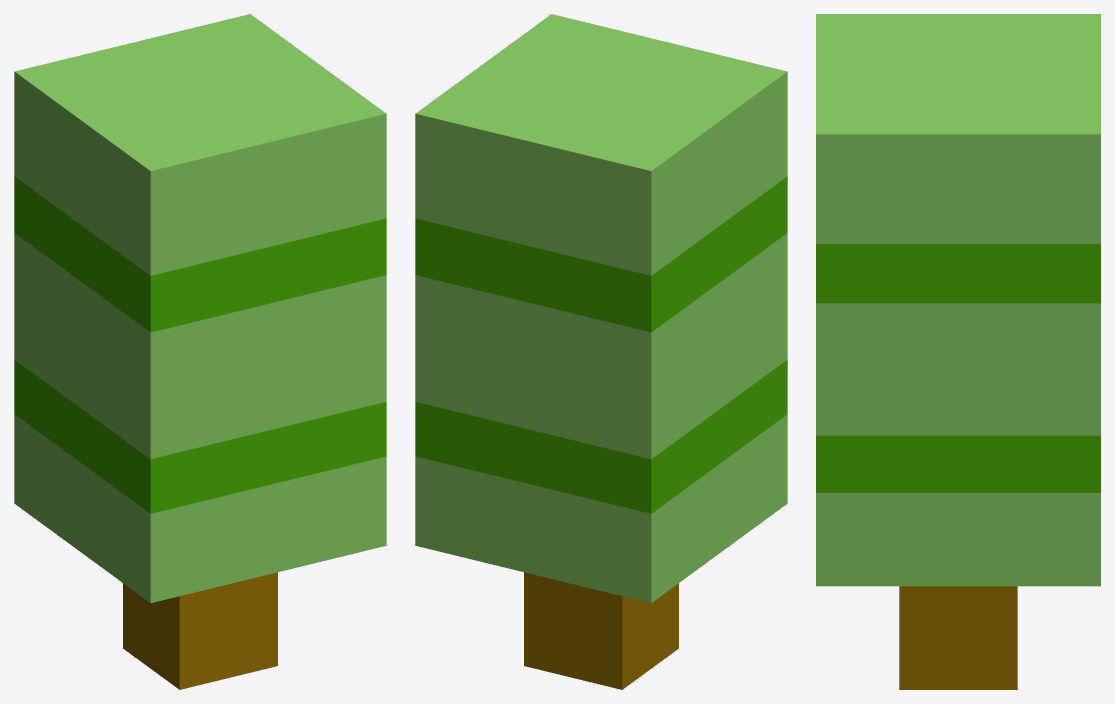
File: tree1.fbx
3 views of the same model, side by side, from view 1: azimuth 30°, elevation 25°; view 2: azimuth 150°, elevation 25°; view 3: azimuth 270°, elevation 25° (orthographic). The views are drawn at different scales.
Parts seen in each view (by area): view 1: tree1; view 2: tree1; view 3: tree1.
Part boxes in pixels (x1=…): tree1: x1=14, y1=14, x2=386, y2=689; tree1: x1=415, y1=14, x2=787, y2=689; tree1: x1=816, y1=14, x2=1100, y2=689.
Size of the model in its own units: 55.7 by 127 by 55.7.
